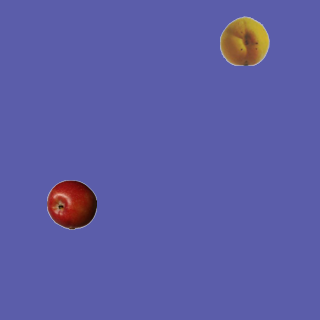Apple Braeburn: (46, 179, 96, 229)
Peach 2: (219, 15, 269, 65)
